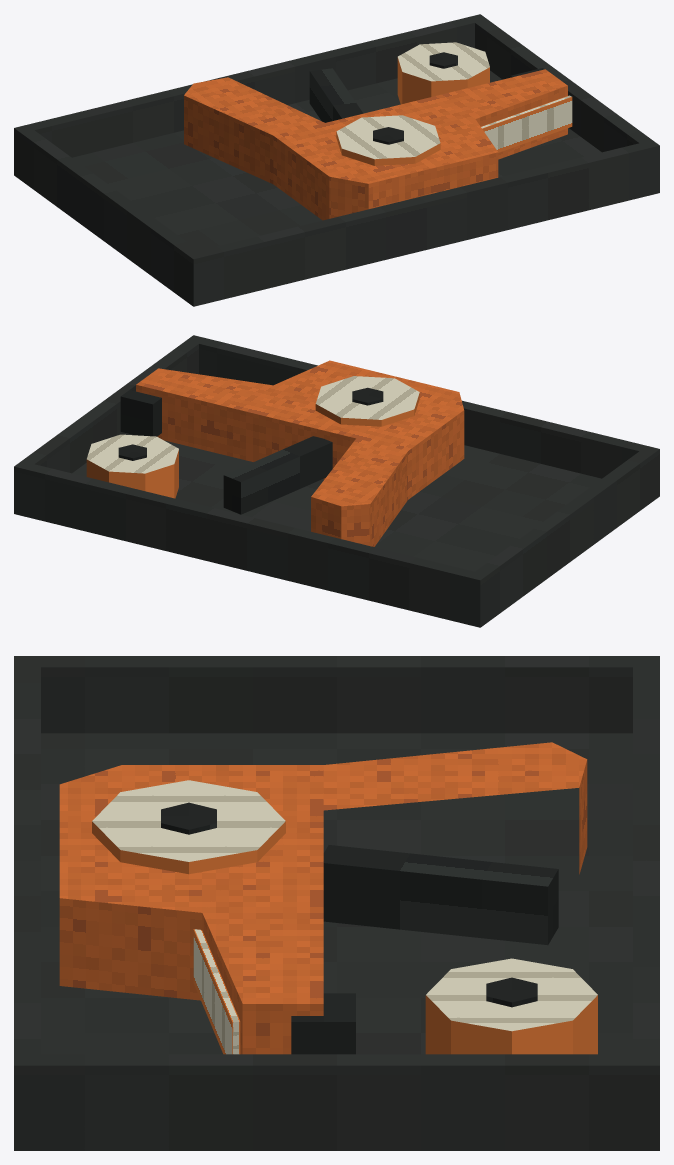
File: pickup_price_gun.glb
The picture shows the model from 3 angles, top to bottom: view 1: azimuth 30°, elevation 25°; view 2: azimuth 150°, elevation 25°; view 3: azimuth 270°, elevation 25°; orthographic projection. The views are drawn at different scales.
Visible parts, largest first — view 1: Rack, Tool; view 2: Rack, Tool; view 3: Rack, Tool.
Boxes of the visible parts, x1,y1,x2,y2 form: Rack: [14, 14, 659, 306]; Tool: [184, 68, 572, 220]; Rack: [14, 335, 659, 627]; Tool: [120, 360, 464, 546]; Rack: [14, 656, 659, 1150]; Tool: [59, 742, 587, 1054].
Bounding box in the file's own units: 0.36 × 0.057 × 0.24.
Materials: 4 (4 with a texture image).
